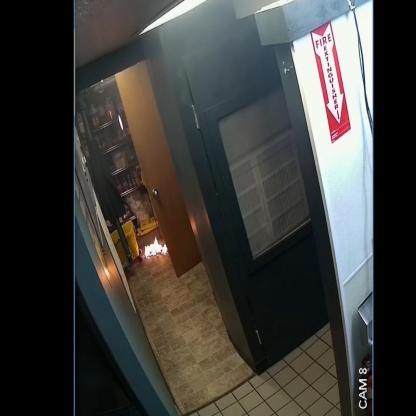fire: (144, 236, 168, 258)
